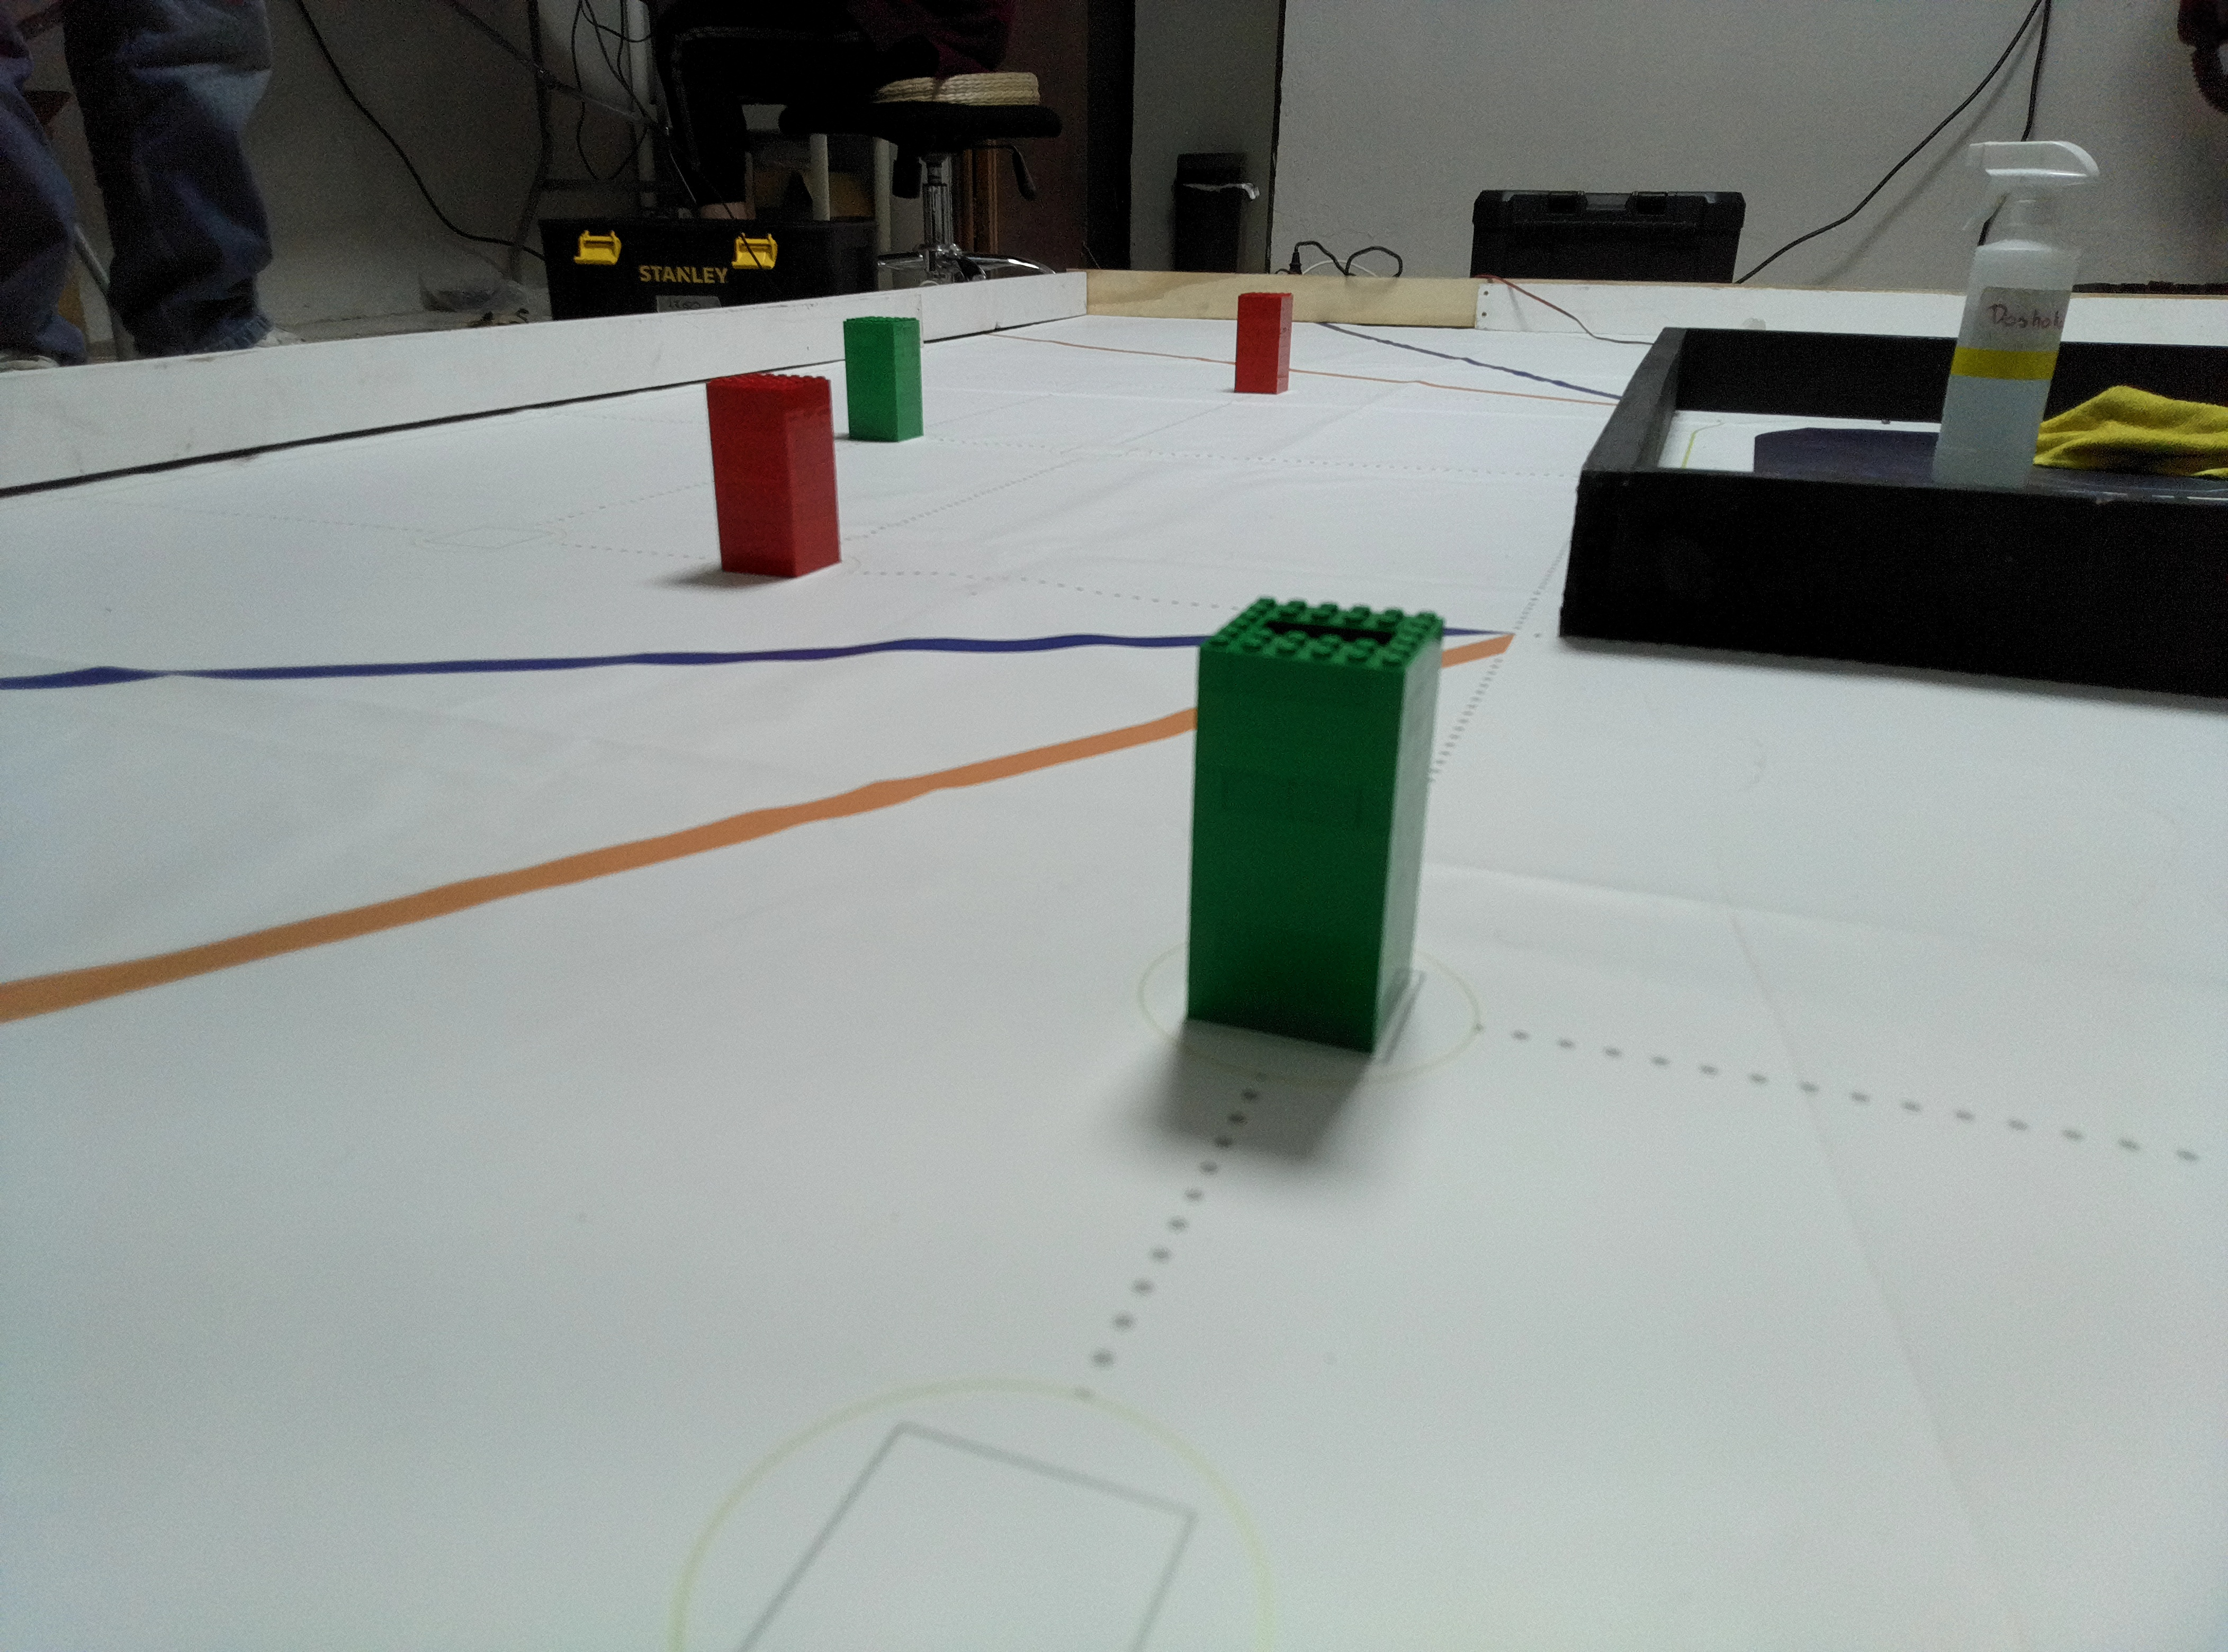greenbox: (1178, 597, 1451, 1059), (840, 314, 928, 444)
redbox: (701, 371, 845, 581), (1234, 290, 1294, 396)
